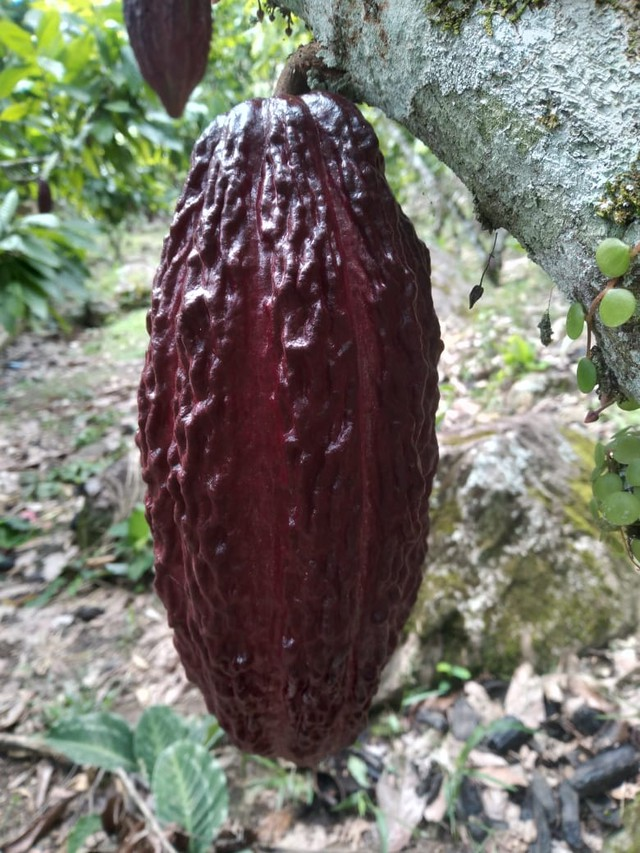Health: (103, 71, 469, 780)
